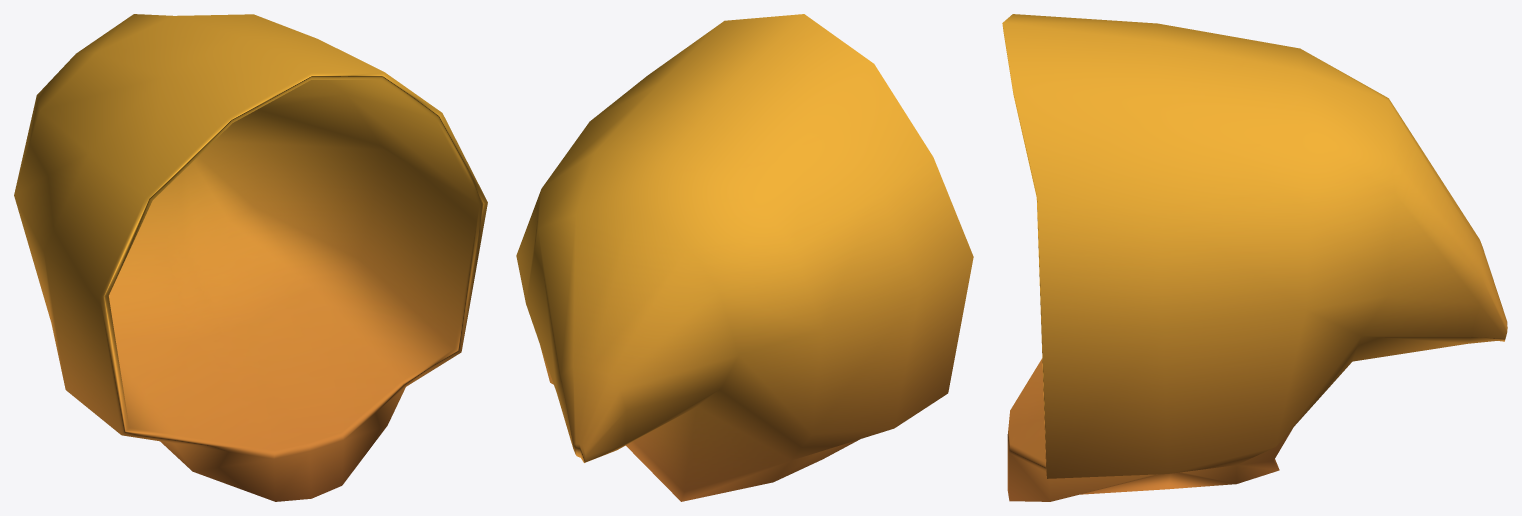
The model's file is Head01.fbx.
The picture shows the model from 3 angles, left to right: view 1: azimuth 30°, elevation 25°; view 2: azimuth 150°, elevation 25°; view 3: azimuth 270°, elevation 25°; orthographic projection. The views are drawn at different scales.
Visible parts, largest first — view 1: Head01; view 2: Head01; view 3: Head01.
Part boxes in pixels (x1,y1,x2,y2): Head01: (14,14,487,501); Head01: (516,14,973,501); Head01: (1002,14,1507,501).
Bounding box in the file's own units: 36.24 × 38.25 × 37.62.
1 material, 1 textured.
